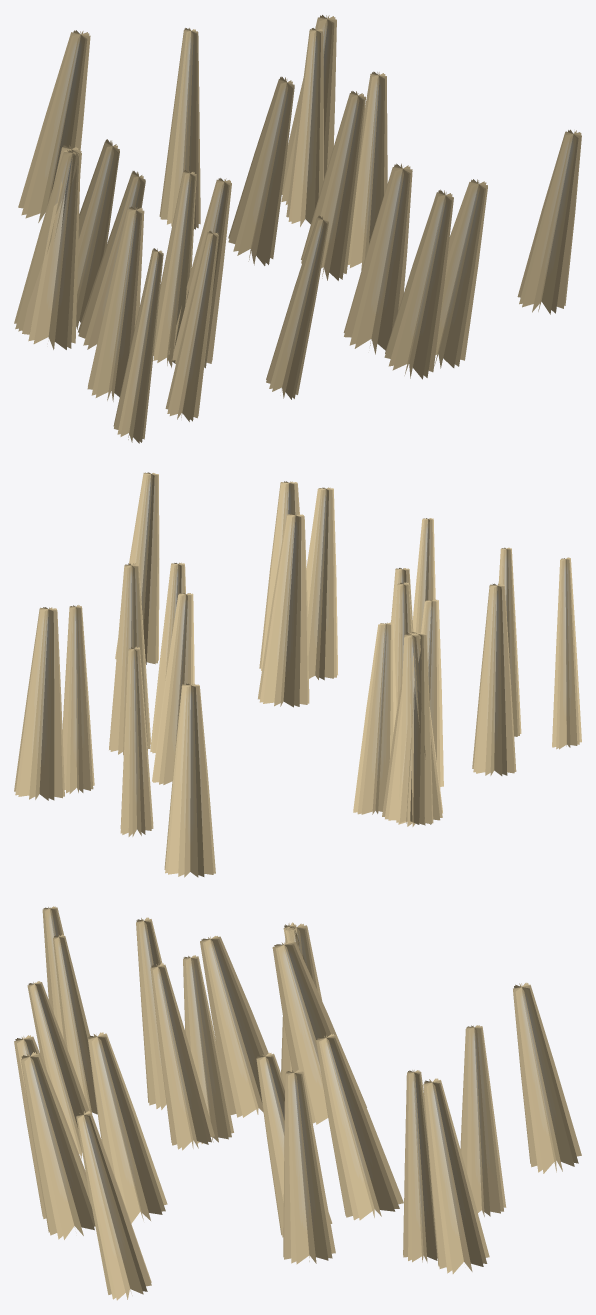
The model's file is Sunbeams_C.fbx.
3 views of the same model, one above another, from view 1: azimuth 30°, elevation 25°; view 2: azimuth 150°, elevation 25°; view 3: azimuth 270°, elevation 25° (orthographic). The views are drawn at different scales.
Visible parts, largest first — view 1: Sunbeams_C; view 2: Sunbeams_C; view 3: Sunbeams_C.
Part boxes in pixels (x1,y1,x2,y2): Sunbeams_C: [14, 15, 581, 443]; Sunbeams_C: [14, 472, 581, 877]; Sunbeams_C: [14, 906, 581, 1300].
Bounding box in the file's own units: 10.95 × 4.3 × 11.69.
Materials: 1 (1 with a texture image).
